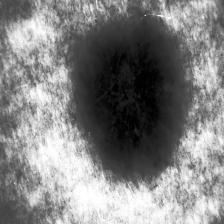Benign Marking or Mole: (76, 20, 177, 173)
